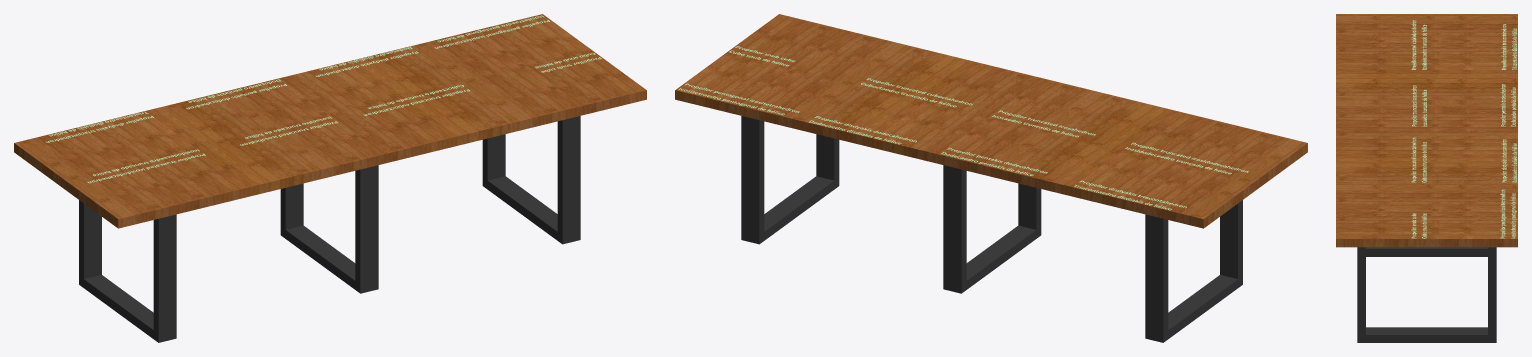
The model's file is propellor2.glb.
3 views of the same model, side by side, from view 1: azimuth 30°, elevation 25°; view 2: azimuth 150°, elevation 25°; view 3: azimuth 270°, elevation 25° (orthographic). The views are drawn at different scales.
Visible parts, largest first — view 1: object 1, Composant#2 (×3), Propellor trunca#2; view 2: object 1, Composant#2 (×3), Propellor trunca#2, Propellor pentag; view 3: object 1, Composant#2 (×2), Propellor pentag, Propellor trunca#2, Propellor disdya#1, Propellor trunca, Propellor disdya, Propellor pentak, Propellor trunca#1, Propellor snub c.
Part boxes in pixels (x1=…): object 1: x1=14, y1=14, x2=646, y2=228; Composant#2 (×3): x1=79, y1=116, x2=580, y2=342; Propellor trunca#2: x1=87, y1=149, x2=205, y2=183; object 1: x1=675, y1=14, x2=1307, y2=228; Composant#2 (×3): x1=741, y1=116, x2=1242, y2=342; Propellor trunca#2: x1=1125, y1=142, x2=1248, y2=174; Propellor pentag: x1=678, y1=83, x2=799, y2=115; object 1: x1=1336, y1=14, x2=1517, y2=247; Composant#2 (×2): x1=1357, y1=247, x2=1496, y2=342; Propellor pentag: x1=1500, y1=189, x2=1516, y2=238; Propellor trunca#2: x1=1411, y1=20, x2=1426, y2=69; Propellor disdya#1: x1=1501, y1=24, x2=1516, y2=69; Propellor trunca: x1=1411, y1=137, x2=1426, y2=182; Propellor disdya: x1=1501, y1=139, x2=1516, y2=182; Propellor pentak: x1=1501, y1=84, x2=1516, y2=126; Propellor trunca#1: x1=1412, y1=85, x2=1426, y2=126; Propellor snub c: x1=1411, y1=213, x2=1426, y2=238.
Bounding box in the file's own units: 2.93 × 0.771 × 1.
3 materials, 1 textured.
